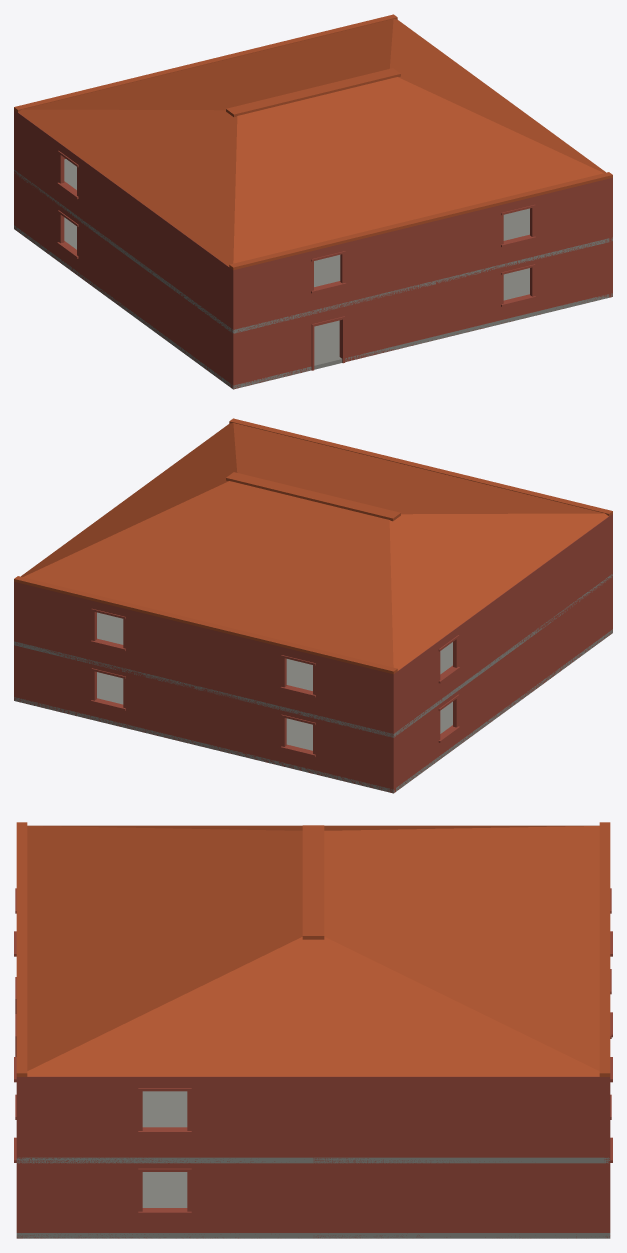
The model's file is house_tactical.glb.
The picture shows the model from 3 angles, top to bottom: view 1: azimuth 30°, elevation 25°; view 2: azimuth 150°, elevation 25°; view 3: azimuth 270°, elevation 25°; orthographic projection. The views are drawn at different scales.
Visible parts, largest first — view 1: house_tactical; view 2: house_tactical; view 3: house_tactical.
Boxes of the visible parts, box(x1,y1,x2,y2) form: house_tactical: box(14, 14, 612, 389); house_tactical: box(14, 418, 612, 793); house_tactical: box(14, 822, 612, 1238).
Bounding box in the file's own units: 20.18 × 8.64 × 20.18.
